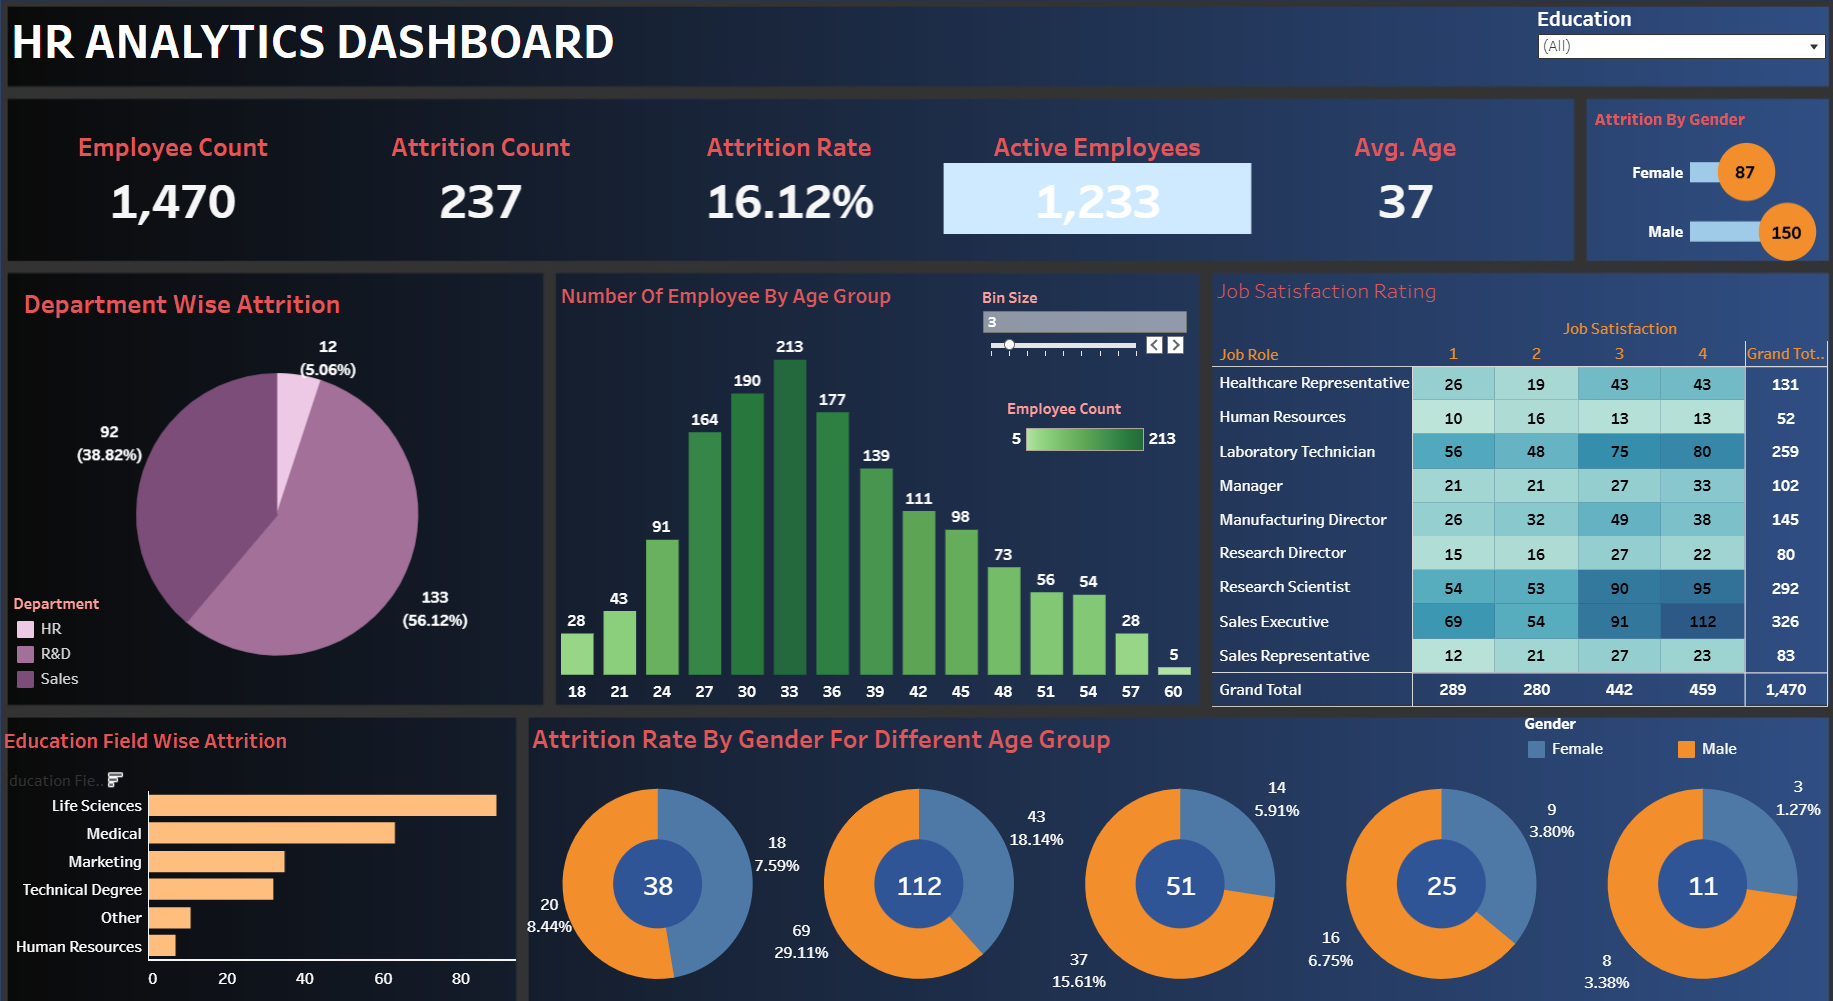

The dashboard page shown, as its layout file describes it:
{"tool":"tableau","page":{"name":"HR Analytics Dashboard","canvas":[1657,851],"ordinal":0},"visuals":[{"type":"image","param":"Image/HR background.png","box":[8,8,1641,835]},{"type":"filter","title":"Department Wise Attrition","param":"[federated.1xx8frs03qi95v1esznui1w5gtm0].[none:Education:nk]","box":[1324,17,232,63]},{"type":"text","box":[103,23,766,44]},{"type":"worksheet","title":"Attrition By Gender","mark":"Automatic","rows":["Gender"],"cols":["Calculation_0329585750528000","Calculation_0329585750528000"],"box":[1366,93,185,129]},{"type":"worksheet","title":"KPI","mark":"Automatic","box":[109,104,1233,97]},{"type":"worksheet","title":"Job Satisfaction Rating","mark":"Square","rows":["Job Role"],"cols":["Job Satisfaction"],"box":[1064,228,493,351]},{"type":"worksheet","title":"Number Of Employee By Age Group","mark":"Automatic","rows":["Employee Count"],"cols":["Age (bin)"],"box":[539,232,511,343]},{"type":"worksheet","title":"Department Wise Attrition","mark":"Pie","box":[109,236,414,334]},{"type":"parameter","param":"[Parameters].[Parameter 1]","box":[880,242,165,74]},{"type":"legend","title":"Number Of Employee By Age Group","param":"[federated.1xx8frs03qi95v1esznui1w5gtm0].[sum:Employee Count:qk]","box":[900,332,140,57]},{"type":"legend","title":"Department Wise Attrition","param":"[federated.1xx8frs03qi95v1esznui1w5gtm0].[none:Department:nk]","box":[105,488,140,85]},{"type":"worksheet","title":"Attrition Rate By Gender For Different Age Group","mark":"Pie","rows":["Calculation_0329585906503684","Calculation_0329585906503684"],"cols":["CF_age band"],"box":[516,584,1045,252]},{"type":"legend","title":"Attrition Rate By Gender For Different Age Group","param":"[federated.1xx8frs03qi95v1esznui1w5gtm0].[none:Gender:nk]","box":[1314,584,245,46]},{"type":"worksheet","title":"Education Field Wise Attrition ","mark":"Automatic","rows":["Education Field"],"cols":["Calculation_0329585750528000"],"box":[93,588,414,250]}]}

Visuals, with their boxes on the page's 1657x851 design canvas (x1, y1, x2, y2). These are canvas units, not pixel positions in the 1833x1001 screenshot, which may show the page scaled, cropped or inside an application window:
image: (8,8,1649,843)
"Department Wise Attrition" filter: (1324,17,1556,80)
text: (103,23,869,67)
"Attrition By Gender" worksheet: (1366,93,1551,222)
"KPI" worksheet: (109,104,1342,201)
"Job Satisfaction Rating" worksheet (Square marks): (1064,228,1557,579)
"Number Of Employee By Age Group" worksheet: (539,232,1050,575)
"Department Wise Attrition" worksheet (Pie marks): (109,236,523,570)
parameter: (880,242,1045,316)
"Number Of Employee By Age Group" legend: (900,332,1040,389)
"Department Wise Attrition" legend: (105,488,245,573)
"Attrition Rate By Gender For Different Age Group" worksheet (Pie marks): (516,584,1561,836)
"Attrition Rate By Gender For Different Age Group" legend: (1314,584,1559,630)
"Education Field Wise Attrition " worksheet: (93,588,507,838)
